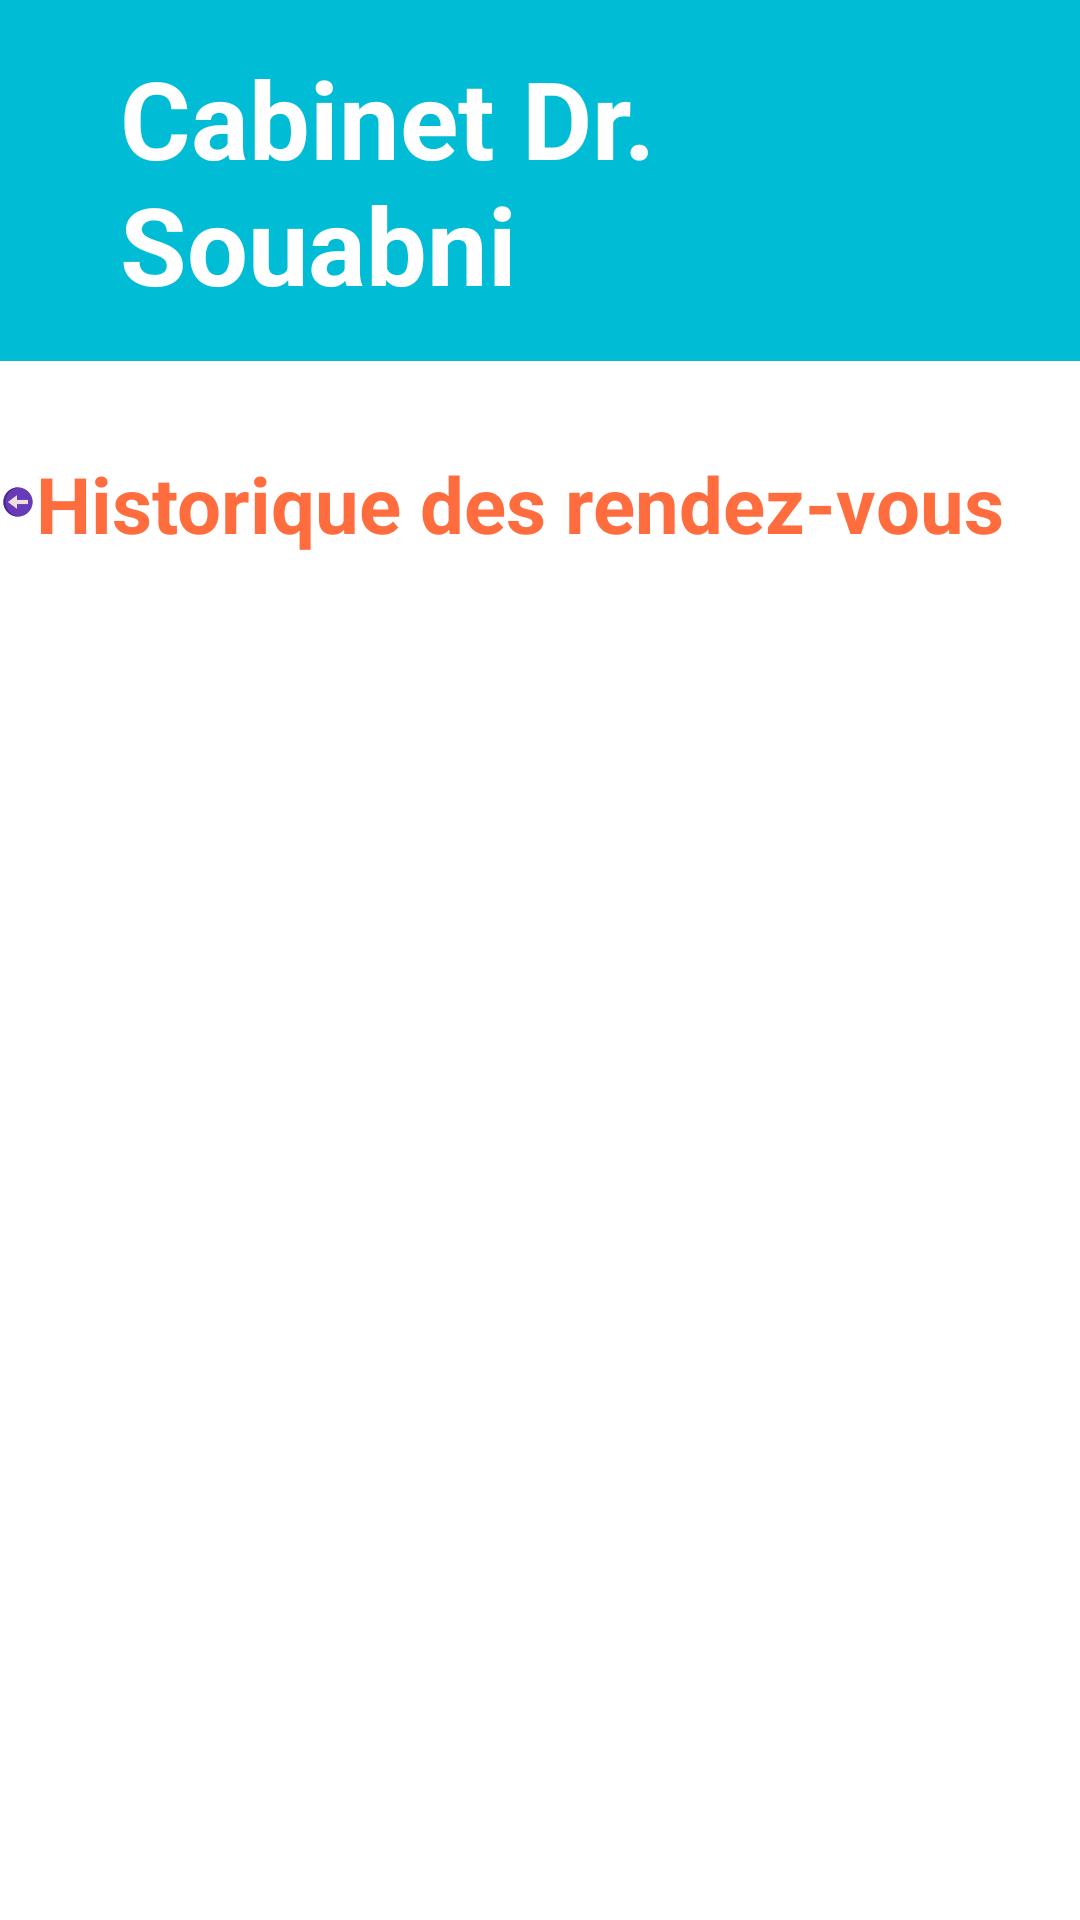

Screen size 1080px x 1920px. Icon name, then its box in pixels as rect(x1, y1, x2, y2):
backviolet: rect(3, 487, 33, 517)
